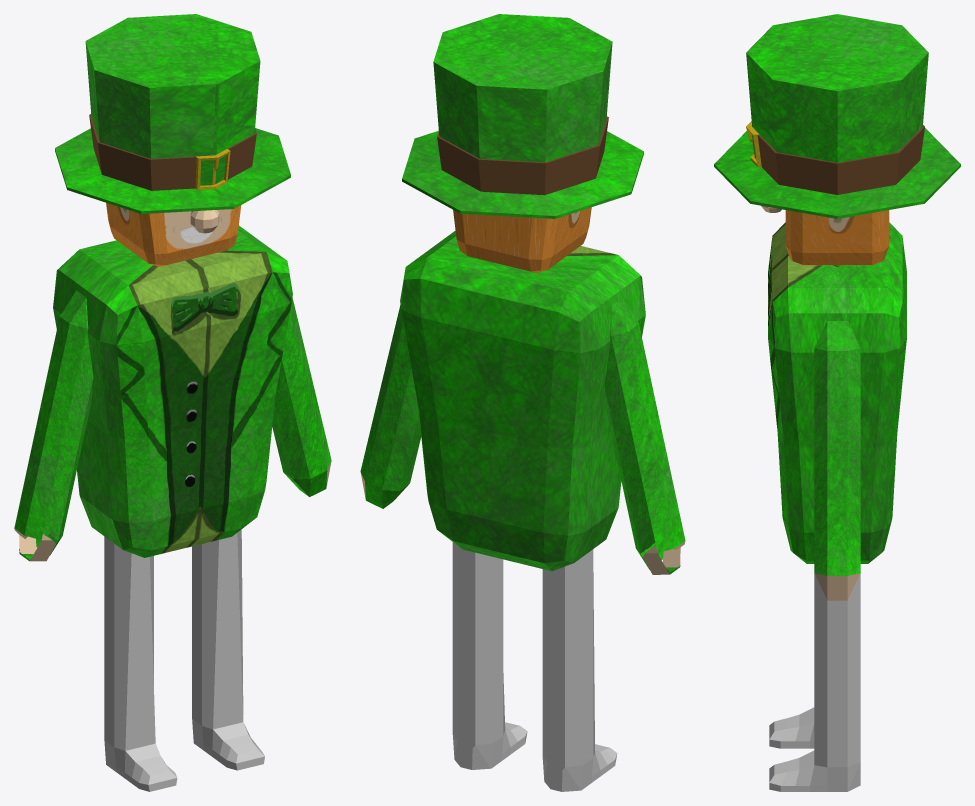
File: Kobold.fbx
3 views of the same model, side by side, from view 1: azimuth 30°, elevation 25°; view 2: azimuth 150°, elevation 25°; view 3: azimuth 270°, elevation 25° (orthographic). The views are drawn at different scales.
Parts seen in each view (by area): view 1: Body, Hat, Legs, Arms, Head; view 2: Body, Hat, Legs, Arms, Head; view 3: Hat, Body, Arms, Legs, Head.
Boxes of the visible parts, box(x1,y1,x2,y2) form: Body: box(53, 225, 292, 557); Hat: box(55, 14, 290, 213); Legs: box(104, 529, 264, 791); Arms: box(14, 290, 331, 561); Head: box(106, 202, 241, 266); Body: box(400, 230, 645, 571); Hat: box(402, 14, 643, 218); Legs: box(452, 542, 617, 791); Arms: box(360, 297, 685, 574); Head: box(453, 207, 591, 272); Hat: box(714, 14, 960, 218); Body: box(768, 222, 906, 563); Arms: box(814, 321, 860, 600); Legs: box(769, 573, 860, 791); Head: box(761, 205, 889, 265).
Bounding box in the file's own units: 81.47 × 178 × 56.13.
